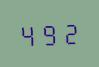four: (18, 21, 37, 47)
nine: (39, 20, 58, 46)
two: (59, 19, 78, 45)
